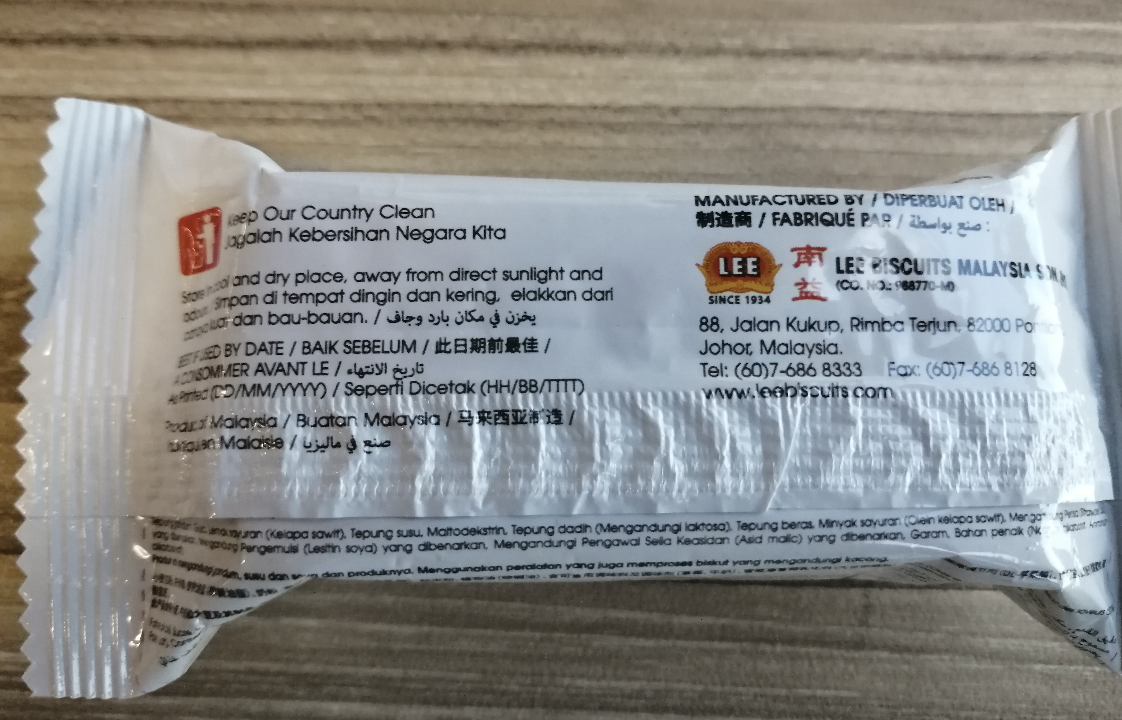Wafers: (100, 195, 1093, 557)
